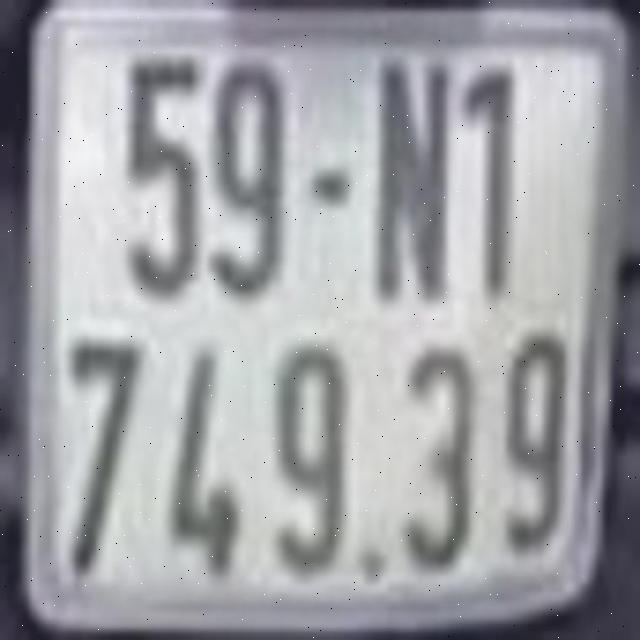1: (463, 64, 515, 296)
3: (406, 349, 471, 570)
4: (170, 348, 241, 578)
5: (125, 54, 202, 298)
7: (64, 335, 140, 577)
9: (211, 63, 283, 297), (276, 346, 344, 575), (506, 338, 564, 552)
N: (376, 60, 451, 298)
